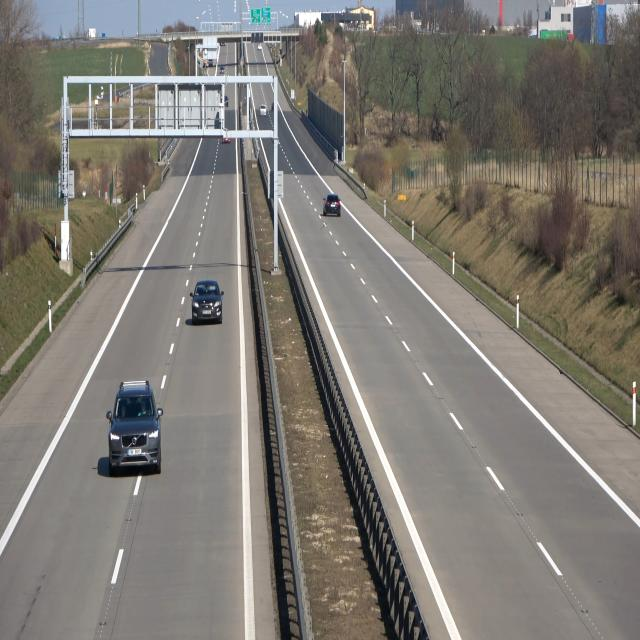Car: (106, 381, 164, 474), (190, 279, 224, 323), (323, 194, 342, 217), (259, 103, 268, 118)
